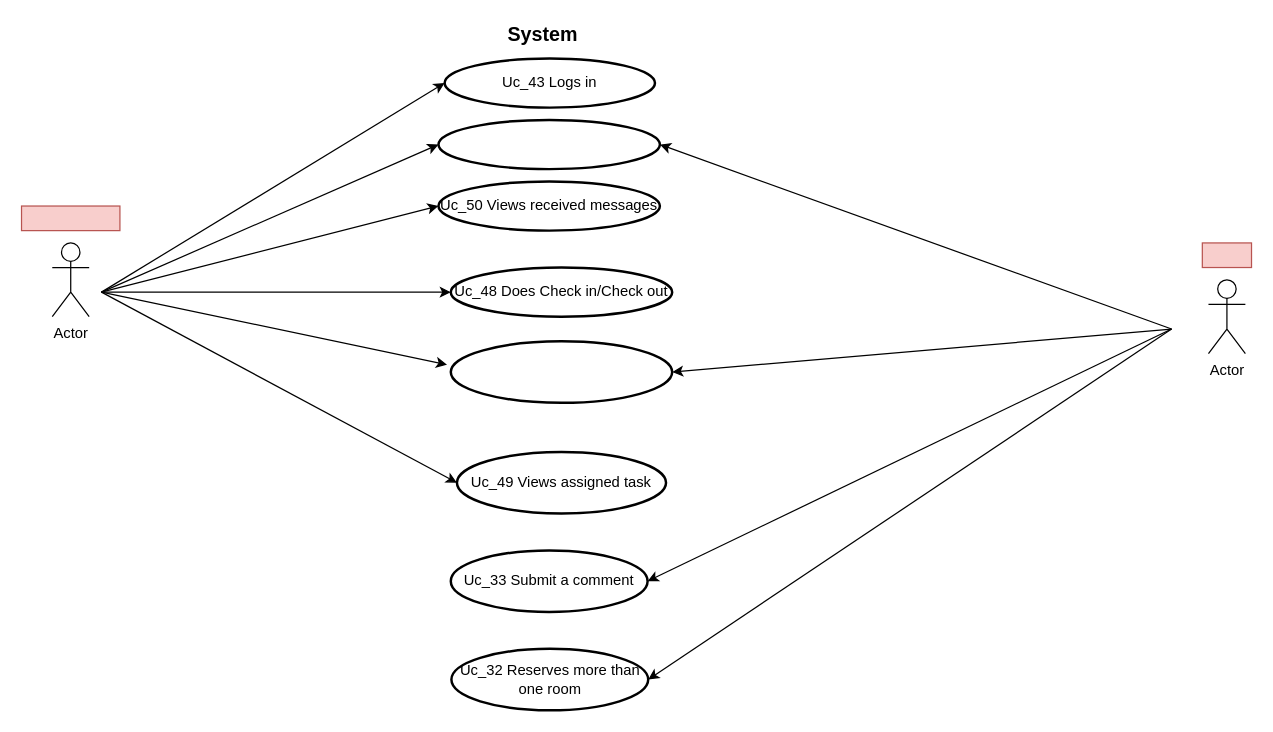
This 1273x732 diagram has some shape labels left out. The centre of each missing label's shape, as x and y in pixels:
"Guest" goes at point 1226,255.
"Receptionist" goes at point 70,218.
"Uc_47,Uc_32 Makes a reservation" goes at point 549,144.
"Uc_51,Uc_31 Checks room availability" goes at point 561,371.
